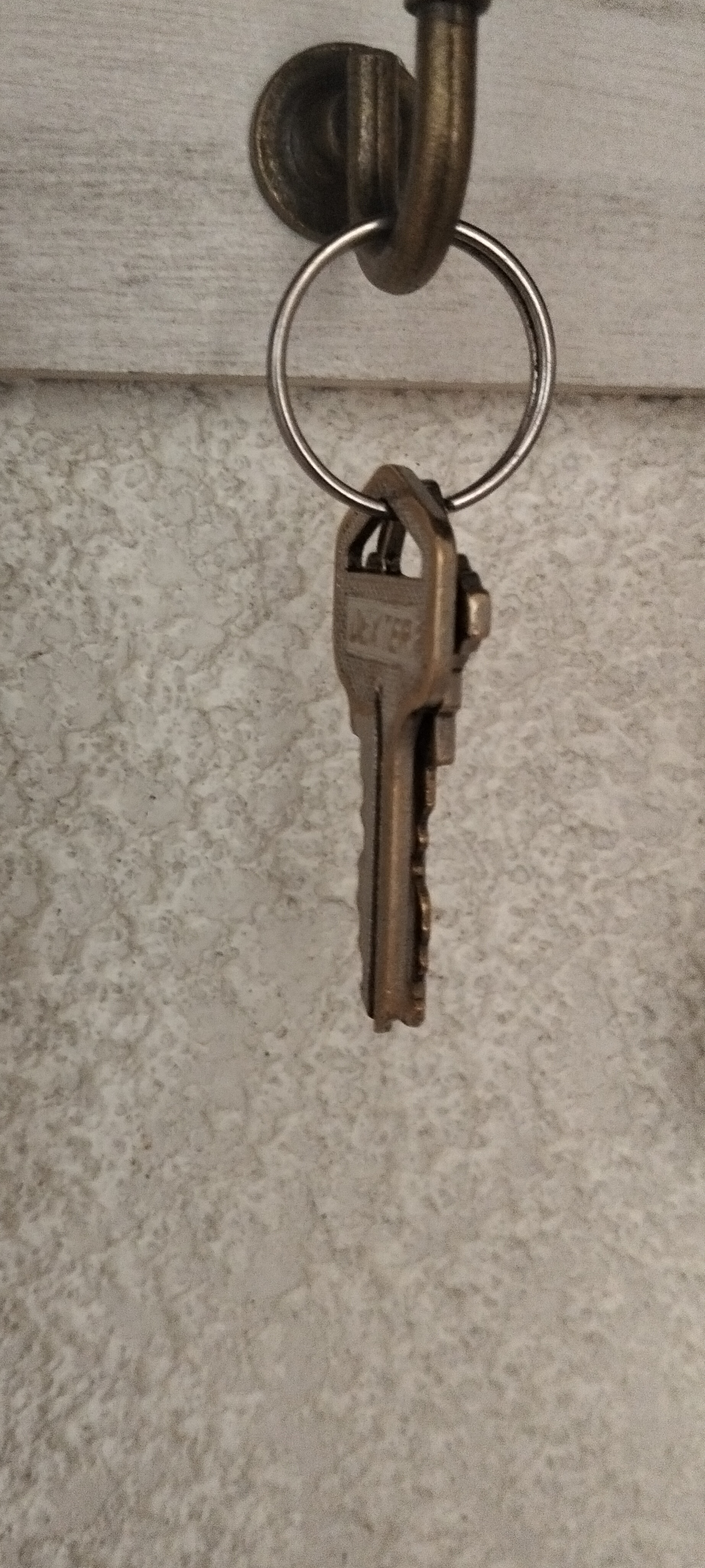llaves: (163, 190, 614, 1068)
